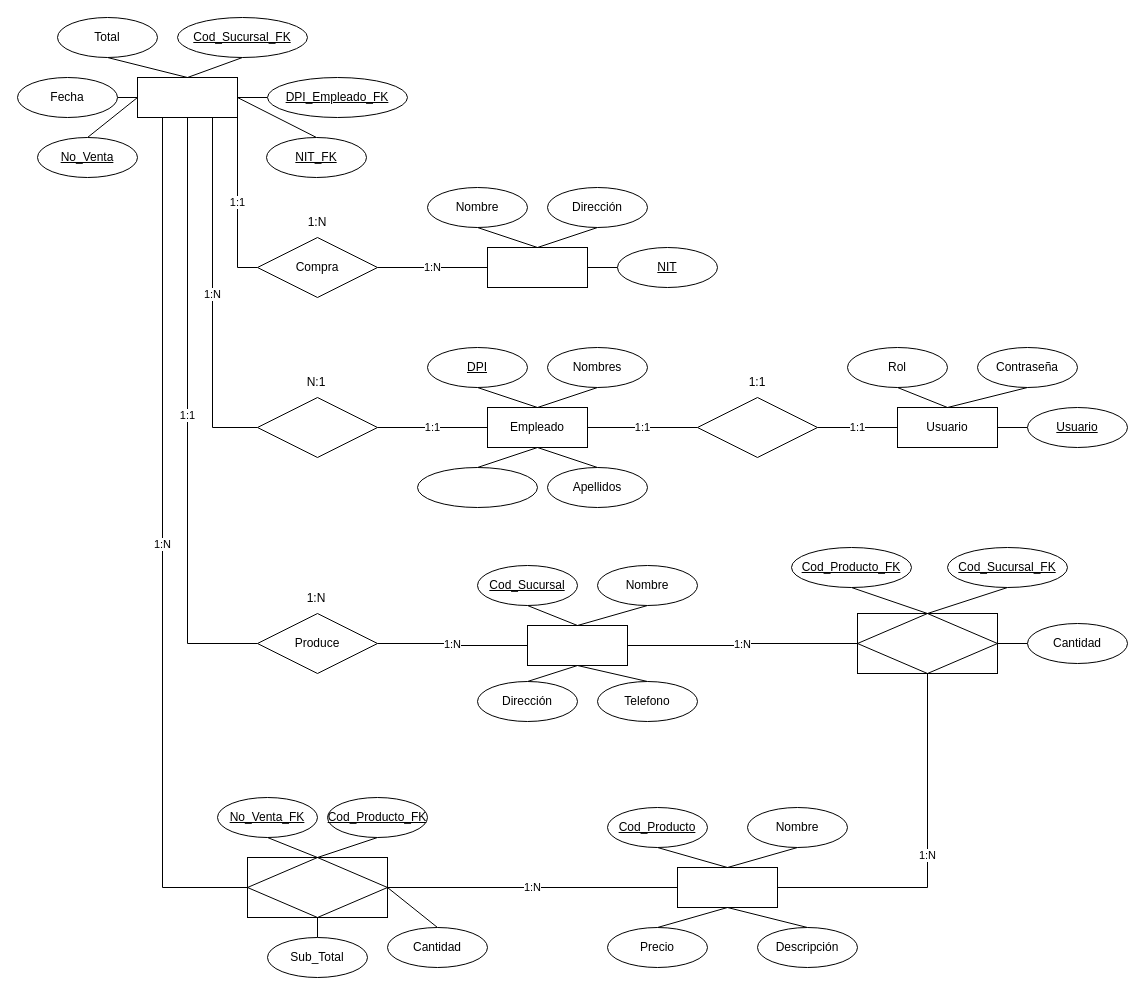
The diagram is 1145 pixels wide and 995 high, and some of its shapes have lost their labels. Each missing label, with the box of its shape:
Accede: (696, 396, 818, 458)
Cliente: (486, 246, 588, 288)
Fecha_Nacimiento: (416, 466, 538, 508)
Inventario: (856, 612, 998, 674)
Lista_Productos: (246, 856, 388, 918)
Producto: (676, 866, 778, 908)
Realiza: (256, 396, 378, 458)
Sucursal: (526, 624, 628, 666)
Venta: (136, 76, 238, 118)
